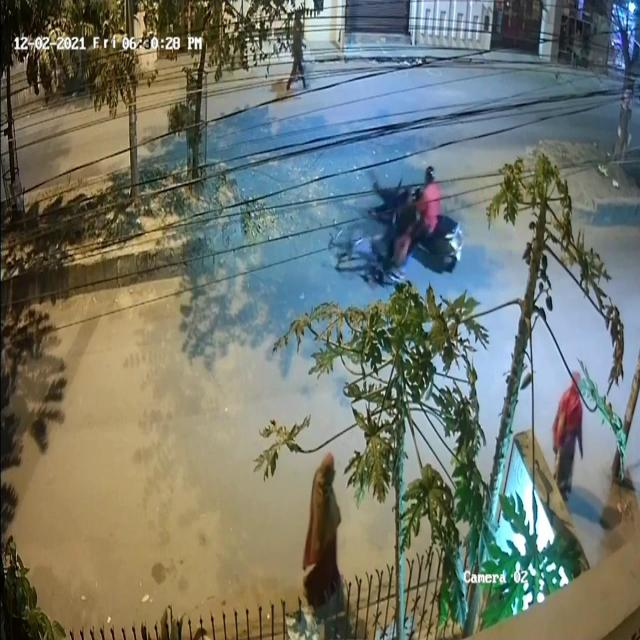accident: (322, 149, 460, 301)
